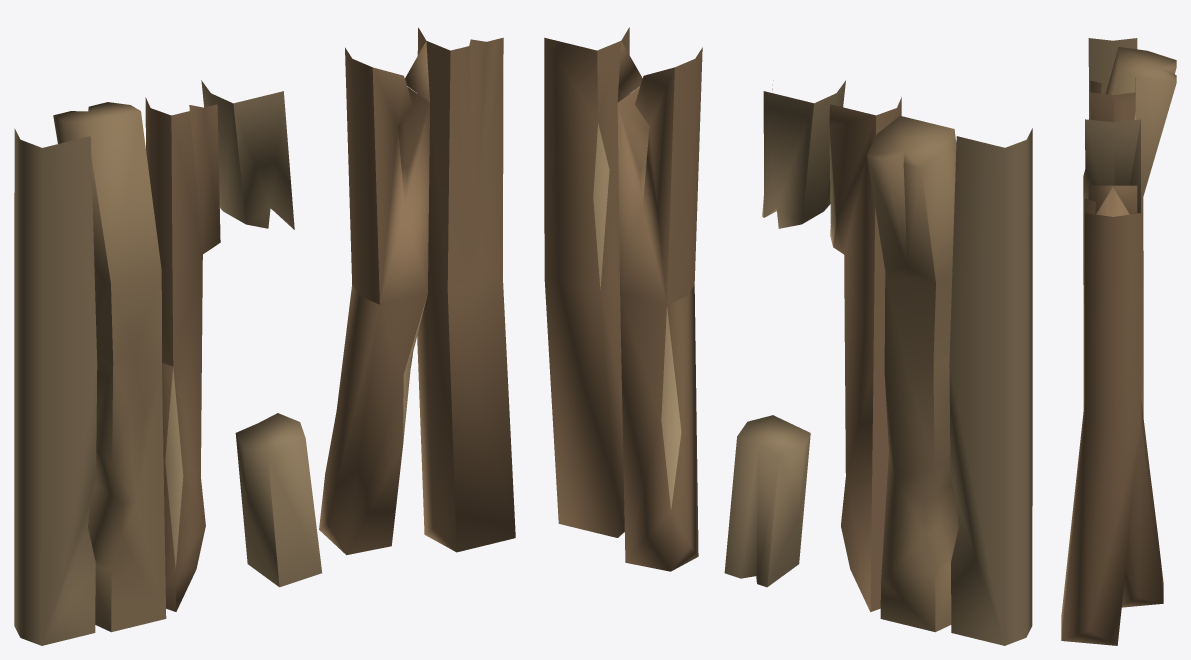
Rendered from rpgpp_av_wall_02_3x3_window_02a.gltf.
The picture shows the model from 3 angles, left to right: view 1: azimuth 30°, elevation 25°; view 2: azimuth 150°, elevation 25°; view 3: azimuth 270°, elevation 25°; orthographic projection. The views are drawn at different scales.
Parts seen in each view (by area): view 1: rpgpp_av_wall_02_3x3_window_02a; view 2: rpgpp_av_wall_02_3x3_window_02a; view 3: rpgpp_av_wall_02_3x3_window_02a.
Part boxes in pixels (x1,y1,x2,y2): rpgpp_av_wall_02_3x3_window_02a: (14, 27, 515, 645); rpgpp_av_wall_02_3x3_window_02a: (544, 27, 1032, 645); rpgpp_av_wall_02_3x3_window_02a: (1061, 38, 1176, 645).
Bounding box in the file's own units: 0.03 × 0.03 × 0.00719.
Materials: 1 (1 with a texture image).
